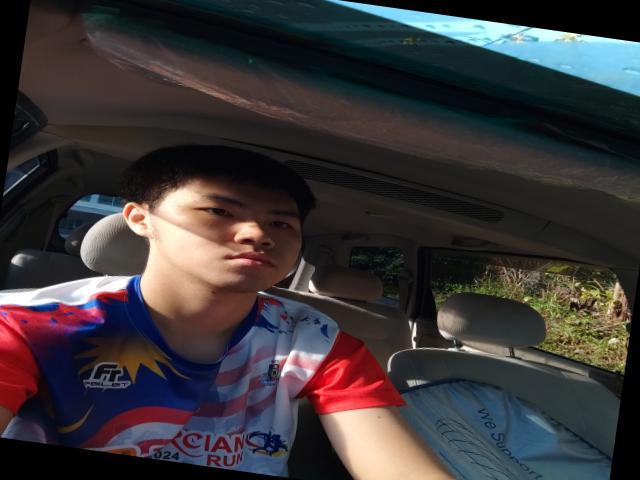eye_open: (187, 201, 240, 223), (264, 216, 302, 234)
face: (154, 176, 310, 303)
